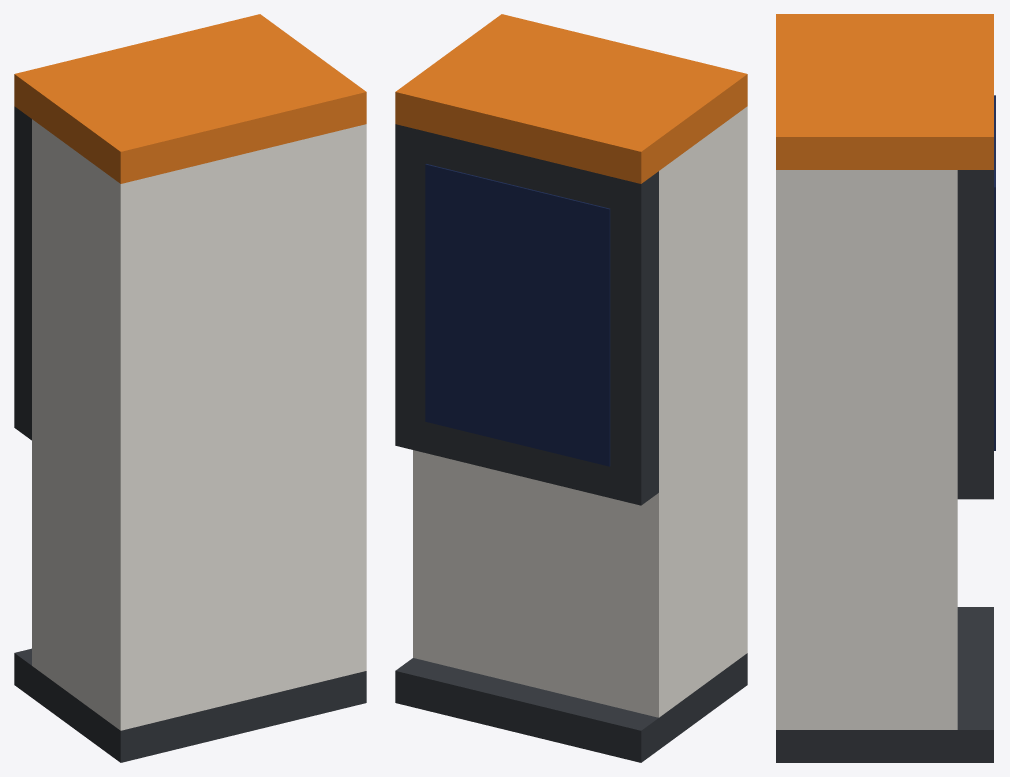
Rendered from kiosk.glb.
3 renders of one model, left to right at view 1: azimuth 30°, elevation 25°; view 2: azimuth 150°, elevation 25°; view 3: azimuth 270°, elevation 25°, orthographic. The views are drawn at different scales.
Parts seen in each view (by area): view 1: housing; view 2: housing, screen; view 3: housing, screen.
Boxes of the visible parts, x1,y1,x2,y2 form: housing: (14,14,366,762); housing: (395,14,747,762); screen: (425,164,610,466); housing: (776,14,993,762); screen: (994,95,995,450).
Bounding box in the file's own units: 0.8 × 1.9 × 0.605.
